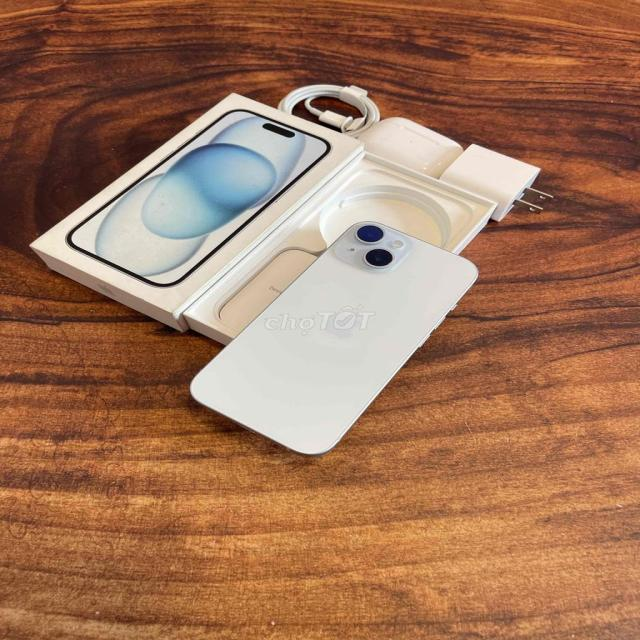gen_12_13: (187, 218, 490, 460)
